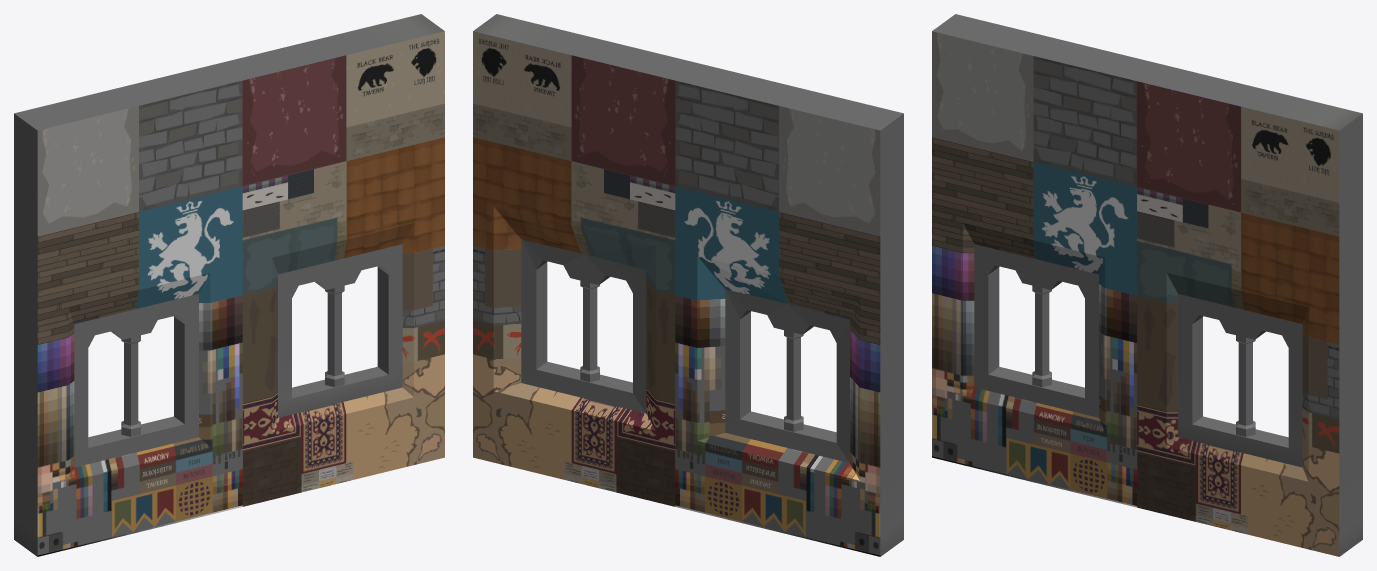
File: kingdom_SM_Bld_Castle_Wall_Window_02.gltf
The picture shows the model from 3 angles, left to right: view 1: azimuth 30°, elevation 25°; view 2: azimuth 150°, elevation 25°; view 3: azimuth 330°, elevation 25°; orthographic projection.
Parts seen in each view (by area): view 1: SM_Bld_Castle_Wall_Window_02; view 2: SM_Bld_Castle_Wall_Window_02; view 3: SM_Bld_Castle_Wall_Window_02.
Part boxes in pixels (bbox=[...]): SM_Bld_Castle_Wall_Window_02: bbox=[14, 14, 444, 556]; SM_Bld_Castle_Wall_Window_02: bbox=[473, 14, 903, 556]; SM_Bld_Castle_Wall_Window_02: bbox=[932, 14, 1362, 556].
Bounding box in the file's own units: 5 × 5 × 0.4999.
Materials: 1 (1 with a texture image).
